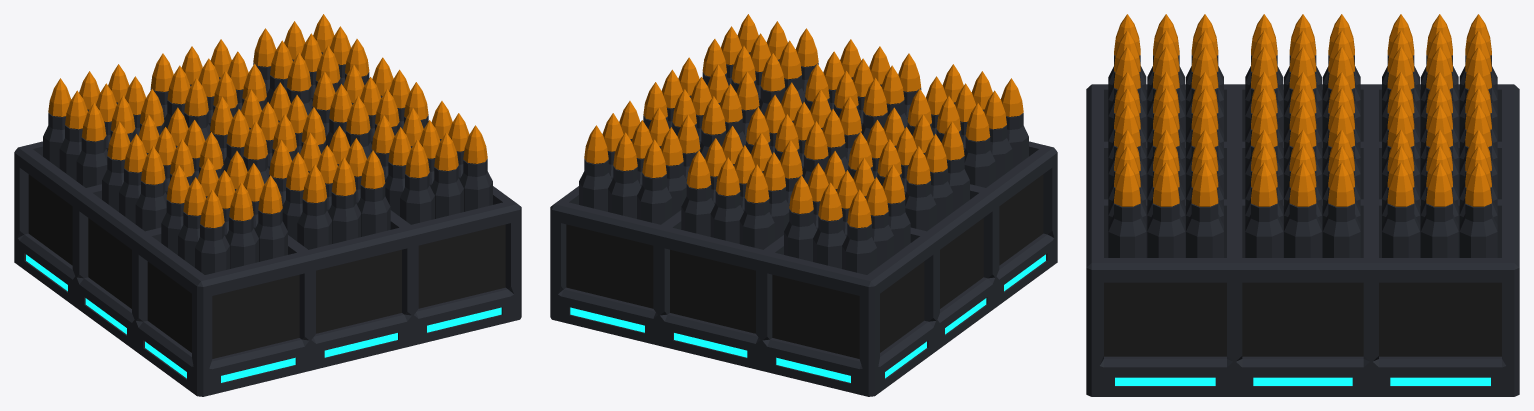
Rendered from SM_Rifle_Ammo_Box.fbx.
3 renders of one model, left to right at view 1: azimuth 30°, elevation 25°; view 2: azimuth 150°, elevation 25°; view 3: azimuth 270°, elevation 25°, orthographic. The views are drawn at different scales.
Visible parts, largest first — view 1: SM_Rifle_Ammo_Box; view 2: SM_Rifle_Ammo_Box; view 3: SM_Rifle_Ammo_Box.
Part boxes in pixels (bbox=[...]): SM_Rifle_Ammo_Box: bbox=[14, 14, 521, 396]; SM_Rifle_Ammo_Box: bbox=[550, 14, 1057, 396]; SM_Rifle_Ammo_Box: bbox=[1086, 14, 1519, 396].
Size of the model in its own units: 57 by 31.54 by 57.
